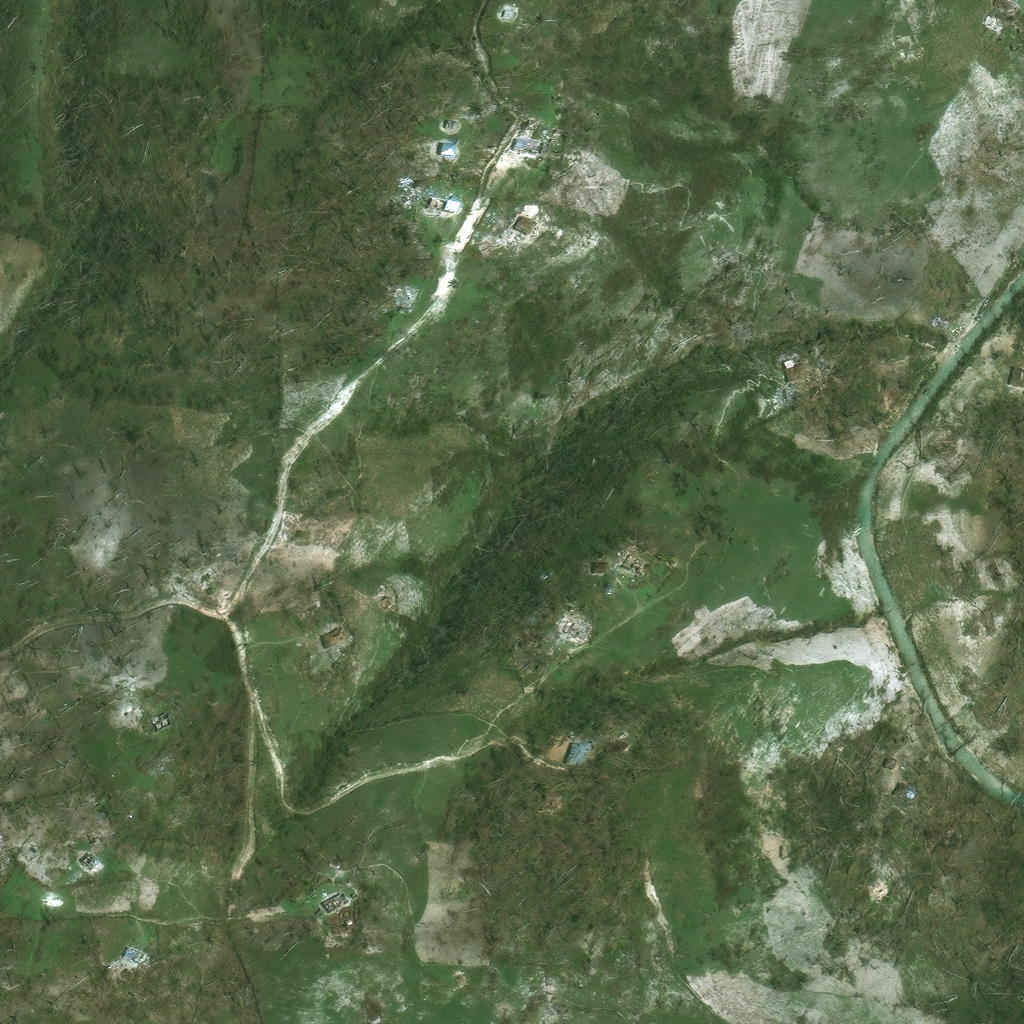destroyed: (980, 0, 1008, 22), (557, 622, 583, 643), (884, 867, 906, 888), (378, 299, 396, 324), (147, 713, 167, 733), (613, 558, 632, 578), (229, 158, 248, 176), (590, 746, 607, 763), (534, 799, 549, 816), (334, 914, 348, 930), (324, 930, 336, 941), (443, 977, 452, 987)
major_damage: (910, 772, 937, 796), (317, 893, 342, 916), (796, 348, 819, 373), (401, 210, 426, 232), (112, 948, 135, 970), (483, 154, 507, 173), (72, 849, 91, 867)
minor_damage: (474, 237, 497, 258), (315, 630, 339, 650), (557, 745, 576, 768), (421, 148, 441, 166), (605, 580, 617, 592)
unclassified: (0, 751, 7, 766)
